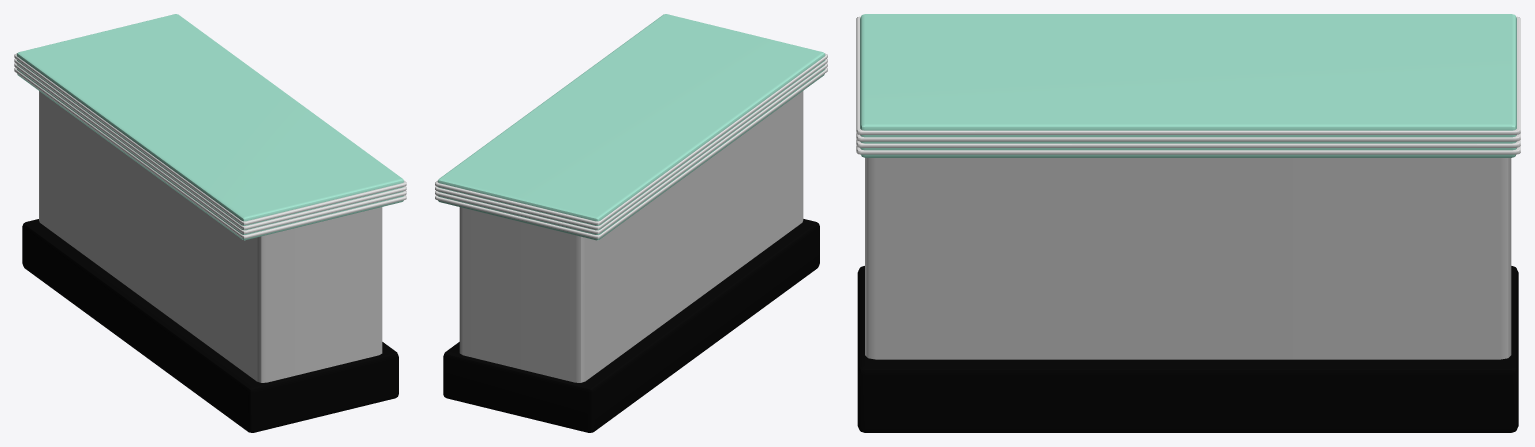
File: kitchen_bar_short.fbx
The picture shows the model from 3 angles, left to right: view 1: azimuth 30°, elevation 25°; view 2: azimuth 150°, elevation 25°; view 3: azimuth 270°, elevation 25°; orthographic projection. The views are drawn at different scales.
Visible parts, largest first — view 1: pasted__pCube2, pCube10, pasted__pasted__pCube2, pCube6, pCube7, pCube9, pCube8; view 2: pasted__pCube2, pCube10, pasted__pasted__pCube2, pCube6, pCube8, pCube9, pCube7; view 3: pasted__pCube2, pCube10, pasted__pasted__pCube2, pCube6, pCube9, pCube8, pCube7.
Boxes of the visible parts, bbox=[...] form: pasted__pCube2: bbox=[39, 91, 382, 382]; pCube10: bbox=[16, 14, 404, 240]; pasted__pasted__pCube2: bbox=[22, 219, 398, 432]; pCube6: bbox=[14, 53, 406, 224]; pCube7: bbox=[14, 63, 406, 233]; pCube9: bbox=[14, 68, 406, 238]; pCube8: bbox=[14, 58, 406, 229]; pasted__pCube2: bbox=[459, 91, 803, 382]; pCube10: bbox=[437, 14, 825, 240]; pasted__pasted__pCube2: bbox=[443, 219, 819, 432]; pCube6: bbox=[435, 53, 827, 224]; pCube8: bbox=[435, 58, 827, 229]; pCube9: bbox=[435, 68, 827, 238]; pCube7: bbox=[435, 63, 827, 233]; pasted__pCube2: bbox=[865, 158, 1511, 359]; pCube10: bbox=[860, 14, 1516, 157]; pasted__pasted__pCube2: bbox=[857, 266, 1518, 432]; pCube6: bbox=[856, 16, 1520, 134]; pCube9: bbox=[856, 146, 1520, 154]; pCube8: bbox=[856, 133, 1520, 141]; pCube7: bbox=[856, 140, 1520, 147].
Size of the model in its own units: 1.63 by 2.06 by 3.96.
